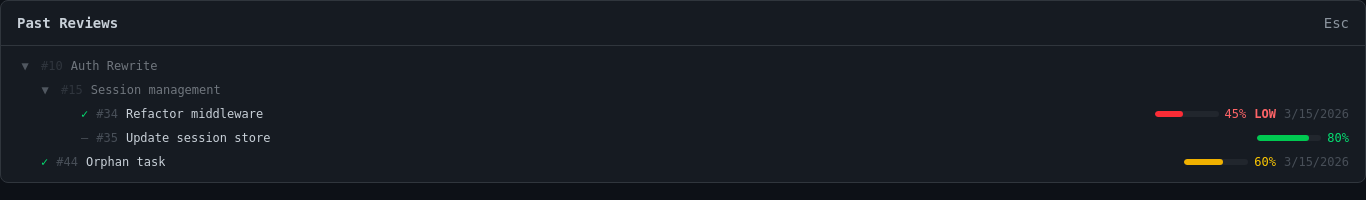
Test: PastReviewsTree › expands collapsed parent node to show children again
This screenshot has width=1366, height=200.
Step 1. Click the button named "Collapse" → click(25, 66), box [17,58,33,74]
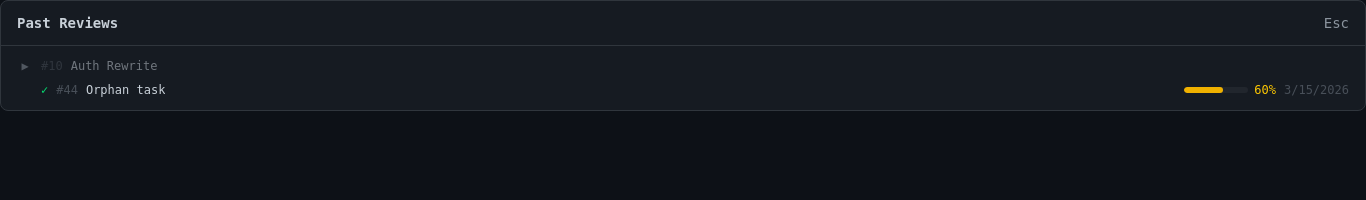
Step 2. Click the button named "Collapse" → click(25, 66), box [17,58,33,74]
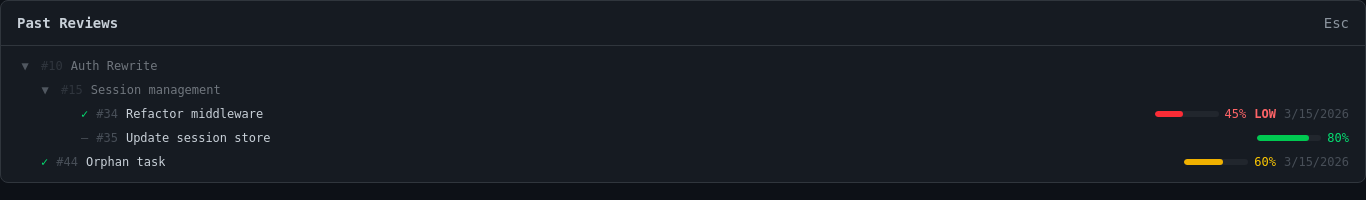
Now the text "Refactor middleware" is shown, box [126,106,263,122]
